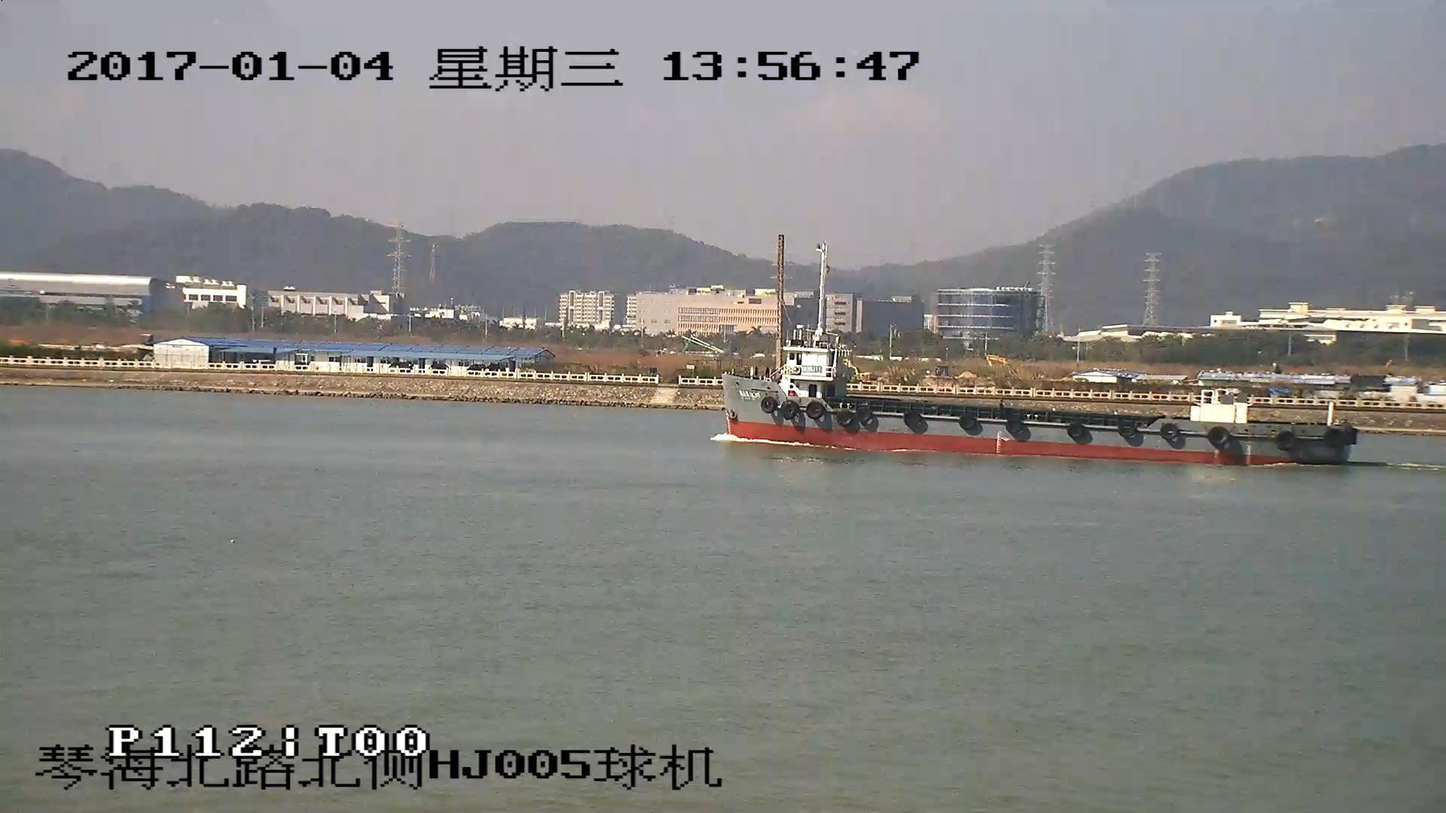general cargo ship: (721, 335, 1357, 470)
